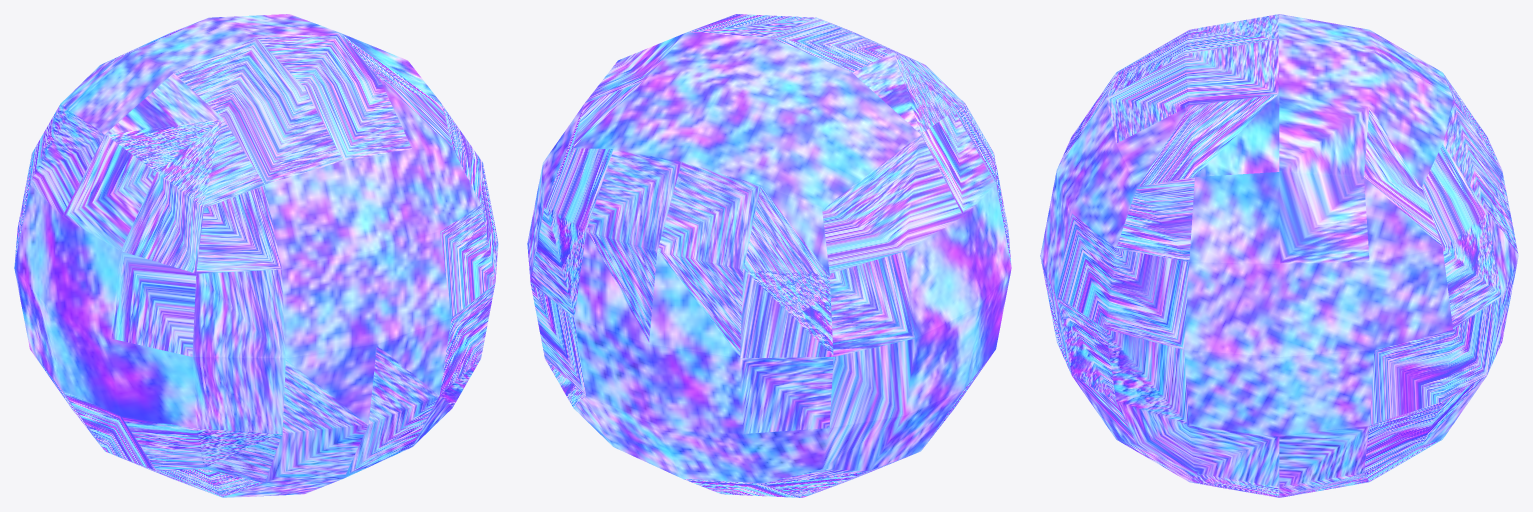
Rendered from interGoop.glb.
3 renders of one model, left to right at view 1: azimuth 30°, elevation 25°; view 2: azimuth 150°, elevation 25°; view 3: azimuth 270°, elevation 25°, orthographic.
Visible parts, largest first — view 1: Blob.005; view 2: Blob.005; view 3: Blob.005.
Part boxes in pixels (bbox=[...]): Blob.005: bbox=[14, 14, 498, 497]; Blob.005: bbox=[527, 14, 1011, 497]; Blob.005: bbox=[1040, 14, 1518, 497].
Bounding box in the file's own units: 1.68 × 1.68 × 1.68.
